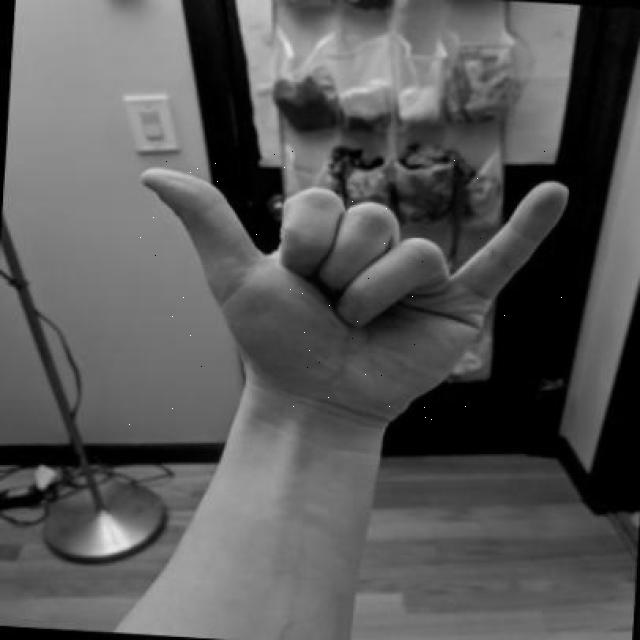Y: (117, 147, 579, 430)
